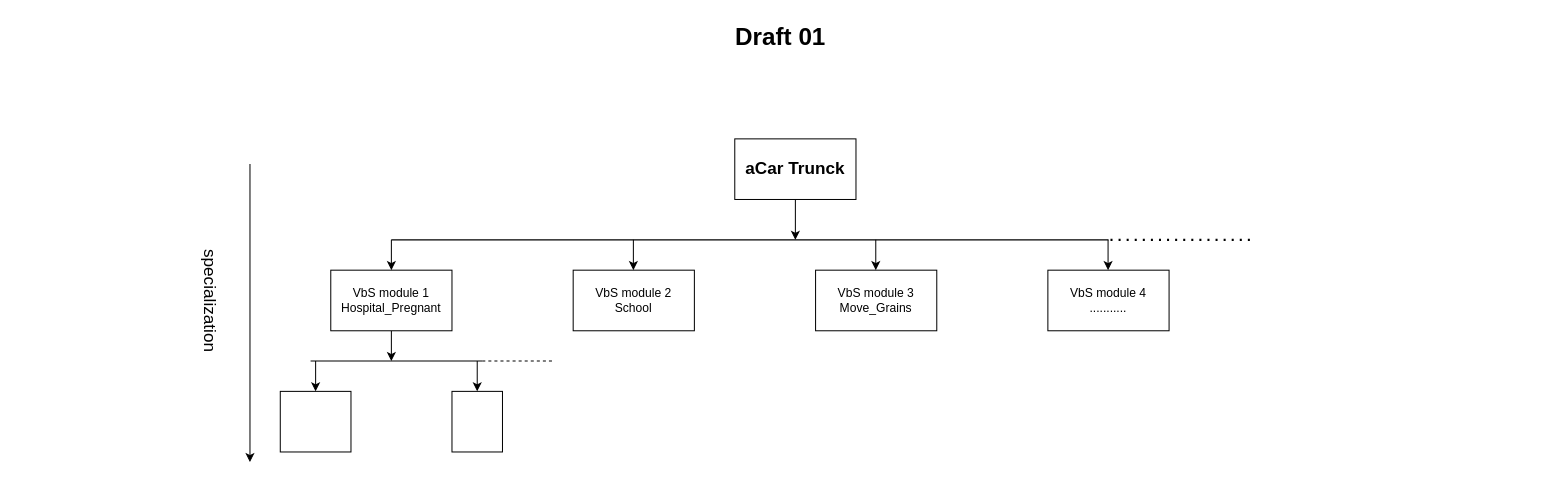
Some shapes in this 1559 by 488 pixel diagram are drawn without their labels. Each missing label, with the centre of its shape:
"Bed" belongs at [476,421].
"Ultrasound" belongs at [315,421].
